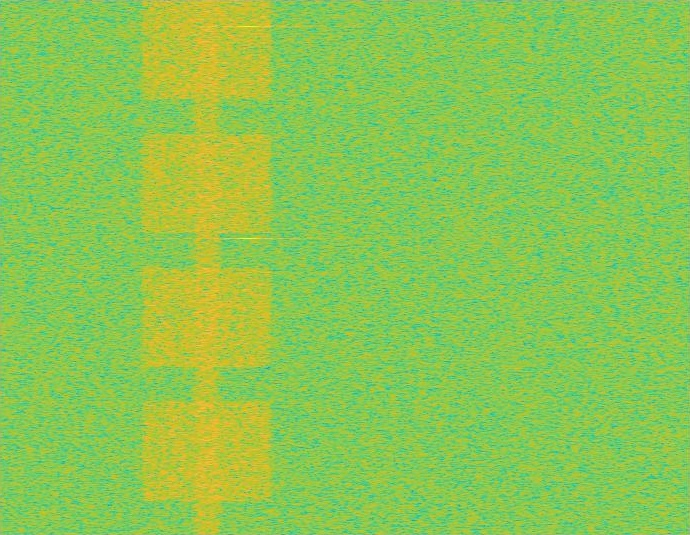5G: (138, 0, 276, 534)
DSSS: (191, 0, 223, 534)
Radar: (241, 0, 255, 534)
